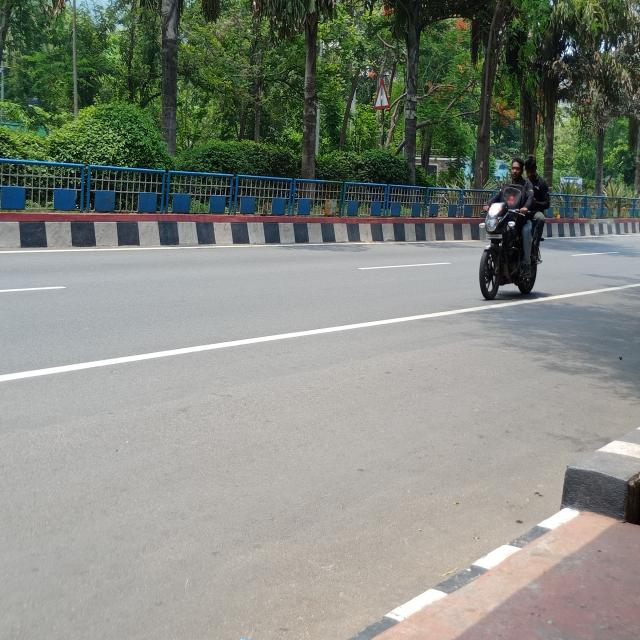bike: (471, 196, 554, 306)
